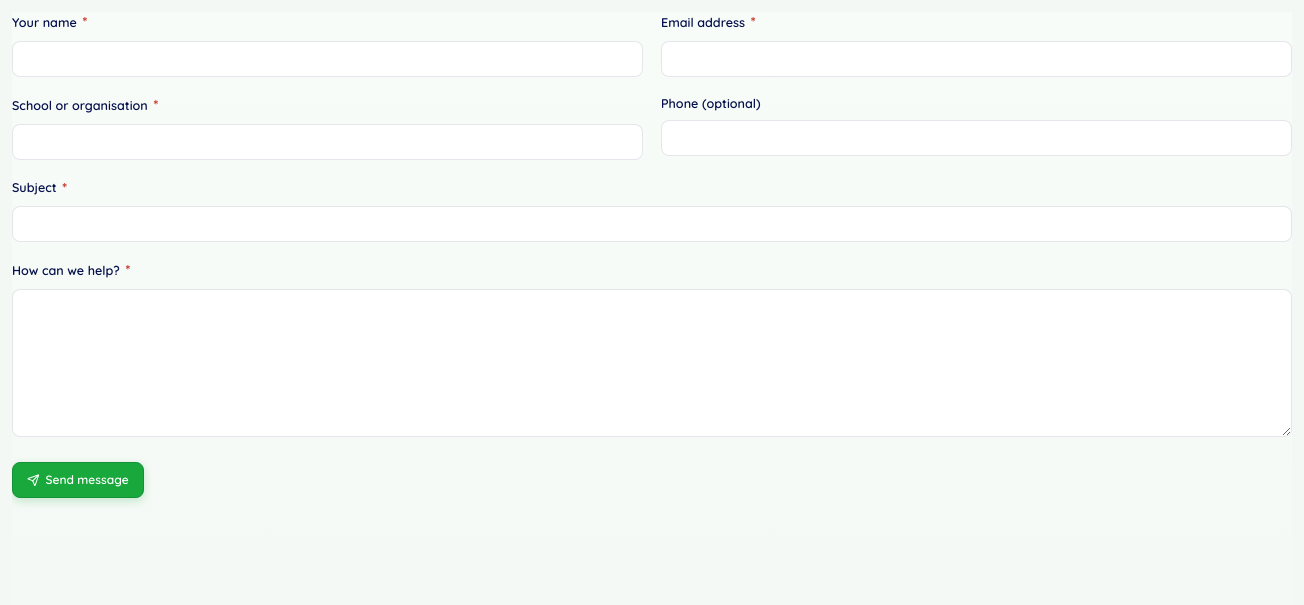
Scenario: ContactForm › associates server validation errors with their fields
This screenshot has width=1304, height=605.
What coordinates should you click on to do the following:
click the button "Send message"
I would click on:
 (78, 480)
Its box is x1=12 y1=462 x2=144 y2=498.
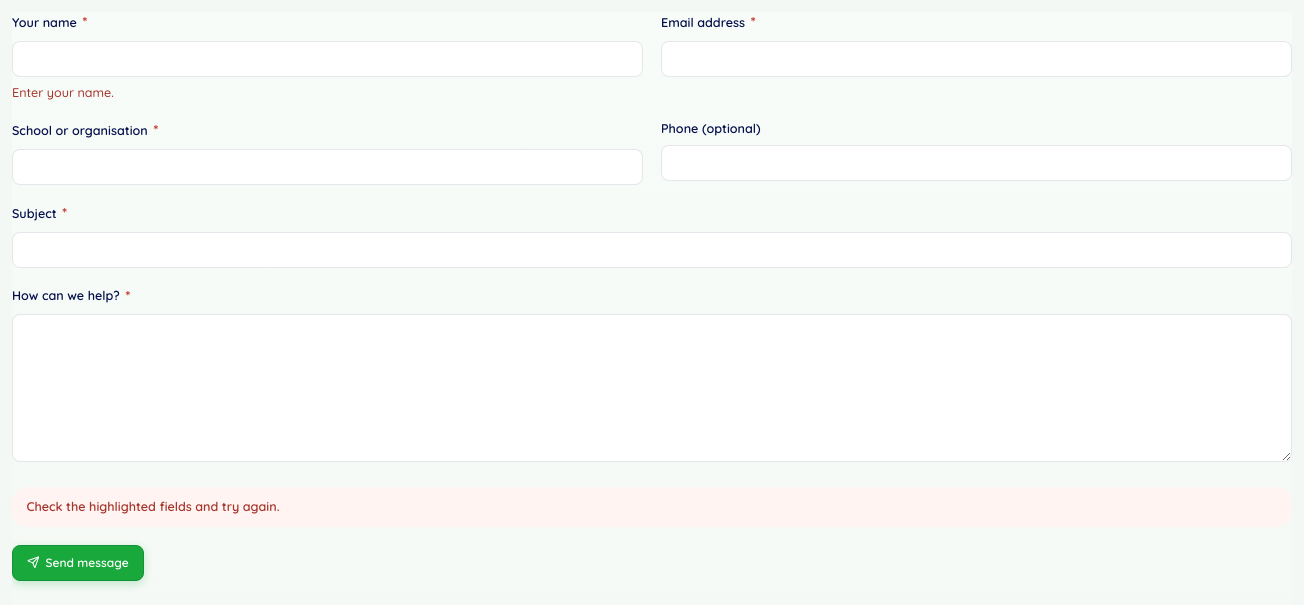
Check: the message shows "highlighted fields", box x1=26 y1=498 x2=280 y2=514
